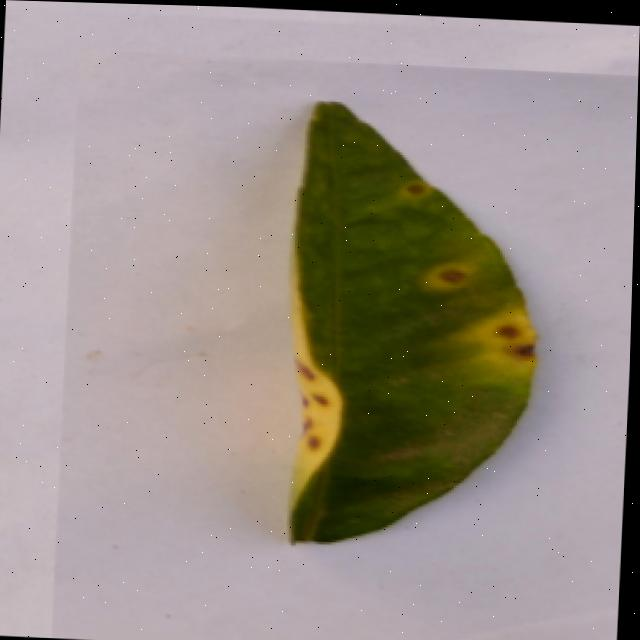canker: (291, 102, 537, 541), (292, 269, 342, 506), (468, 286, 543, 379), (384, 156, 449, 214), (422, 230, 468, 304)
